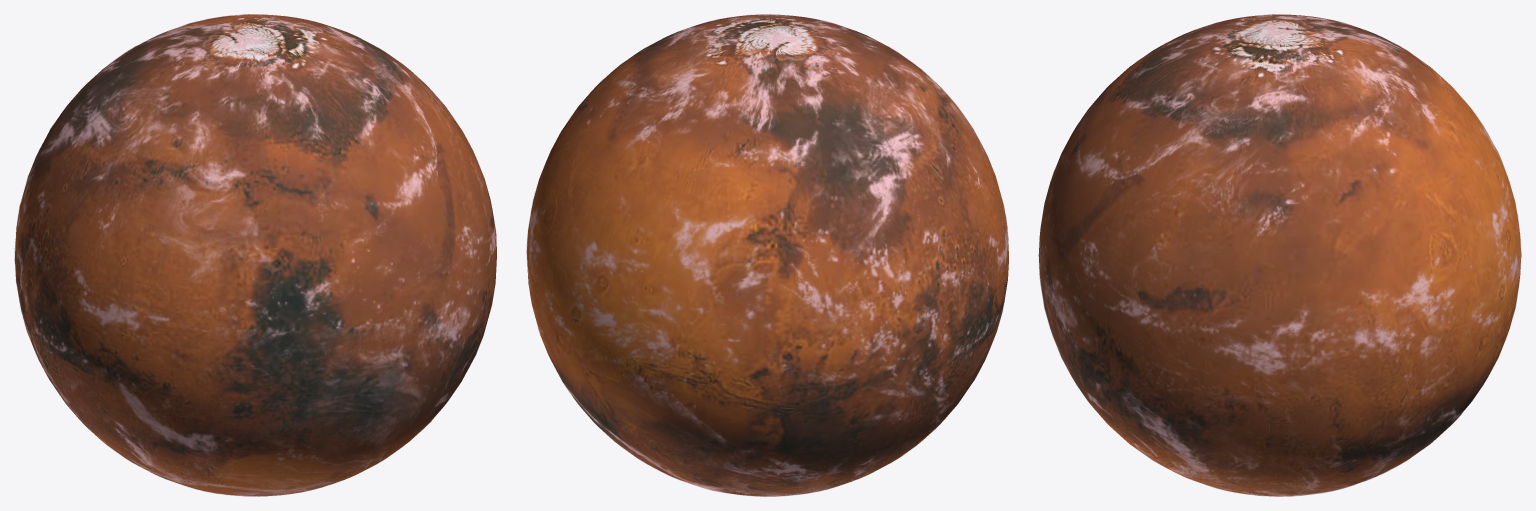
Rendered from mars-01.glb.
The picture shows the model from 3 angles, left to right: view 1: azimuth 30°, elevation 25°; view 2: azimuth 150°, elevation 25°; view 3: azimuth 270°, elevation 25°; orthographic projection.
Parts seen in each view (by area): view 1: Mars, Clouds; view 2: Mars, Clouds; view 3: Mars, Clouds.
Part boxes in pixels (bbox=[...]): Mars: bbox=[15, 14, 496, 496]; Clouds: bbox=[14, 14, 496, 496]; Mars: bbox=[527, 14, 1008, 496]; Clouds: bbox=[526, 14, 1008, 496]; Mars: bbox=[1038, 14, 1521, 496]; Clouds: bbox=[1039, 14, 1521, 496].
Size of the model in its own units: 4.88 by 4.88 by 4.88.
2 materials, 2 textured.
